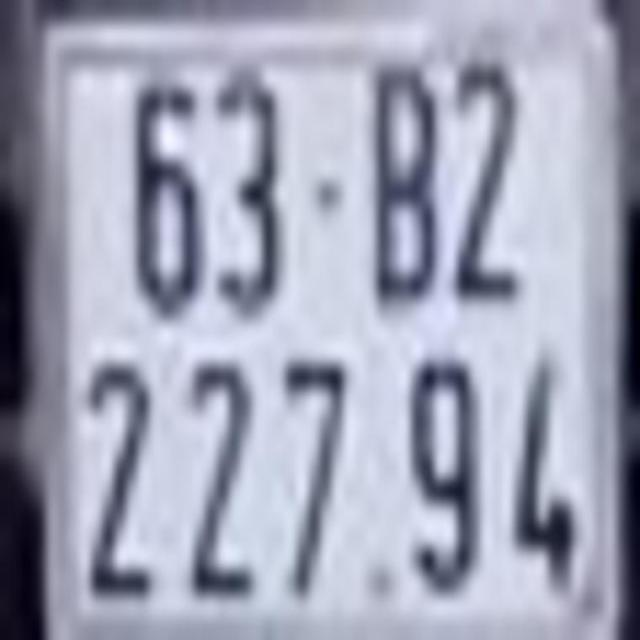2: (449, 66, 514, 289), (190, 367, 253, 596), (90, 364, 147, 596)
3: (222, 79, 285, 324)
4: (520, 366, 574, 592)
6: (129, 90, 203, 309)
7: (286, 364, 334, 596)
9: (405, 366, 483, 588)
B: (362, 76, 442, 295)
